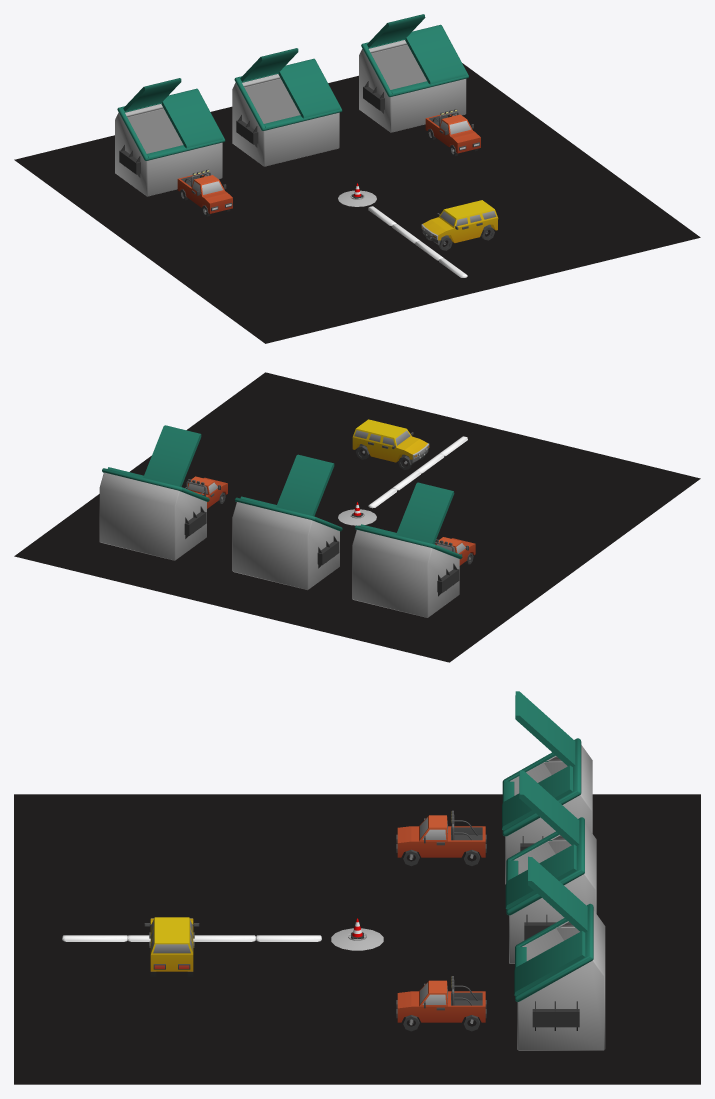
The model's file is Tile 10_Combined.fbx.
The picture shows the model from 3 angles, top to bottom: view 1: azimuth 30°, elevation 25°; view 2: azimuth 150°, elevation 25°; view 3: azimuth 270°, elevation 25°; orthographic projection. The views are drawn at different scales.
Parts seen in each view (by area): view 1: MeshBaker_Cluster_0_mesh_mesh; view 2: MeshBaker_Cluster_0_mesh_mesh; view 3: MeshBaker_Cluster_0_mesh_mesh.
Boxes of the visible parts, bbox=[...] form: MeshBaker_Cluster_0_mesh_mesh: bbox=[14, 14, 700, 343]; MeshBaker_Cluster_0_mesh_mesh: bbox=[14, 372, 700, 662]; MeshBaker_Cluster_0_mesh_mesh: bbox=[14, 691, 700, 1084].
Size of the model in its own units: 3000 by 700 by 3000.
